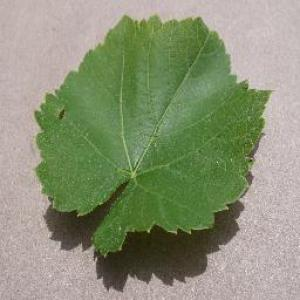Folha: (32, 13, 276, 258)
